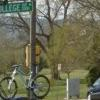Bicycle: (0, 56, 51, 100)
